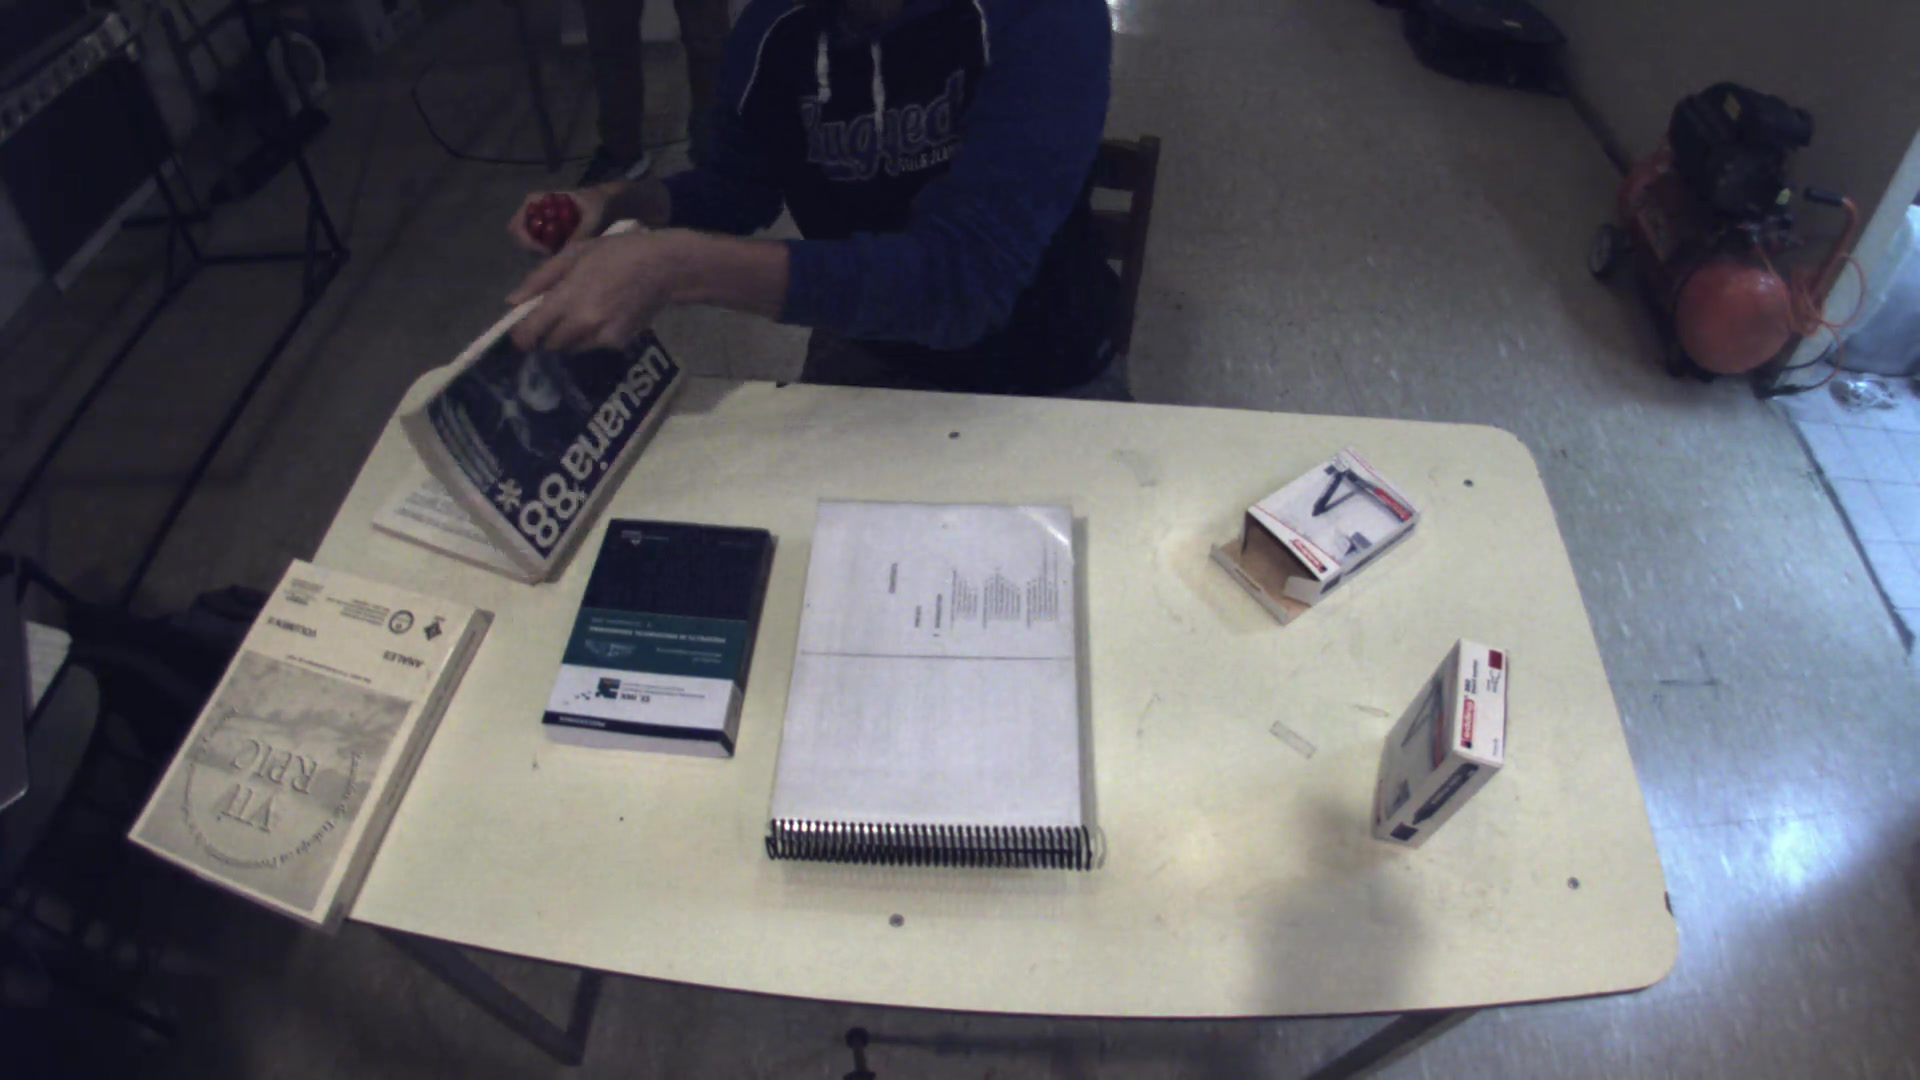hand: (498, 235, 674, 377), (488, 173, 607, 251)
